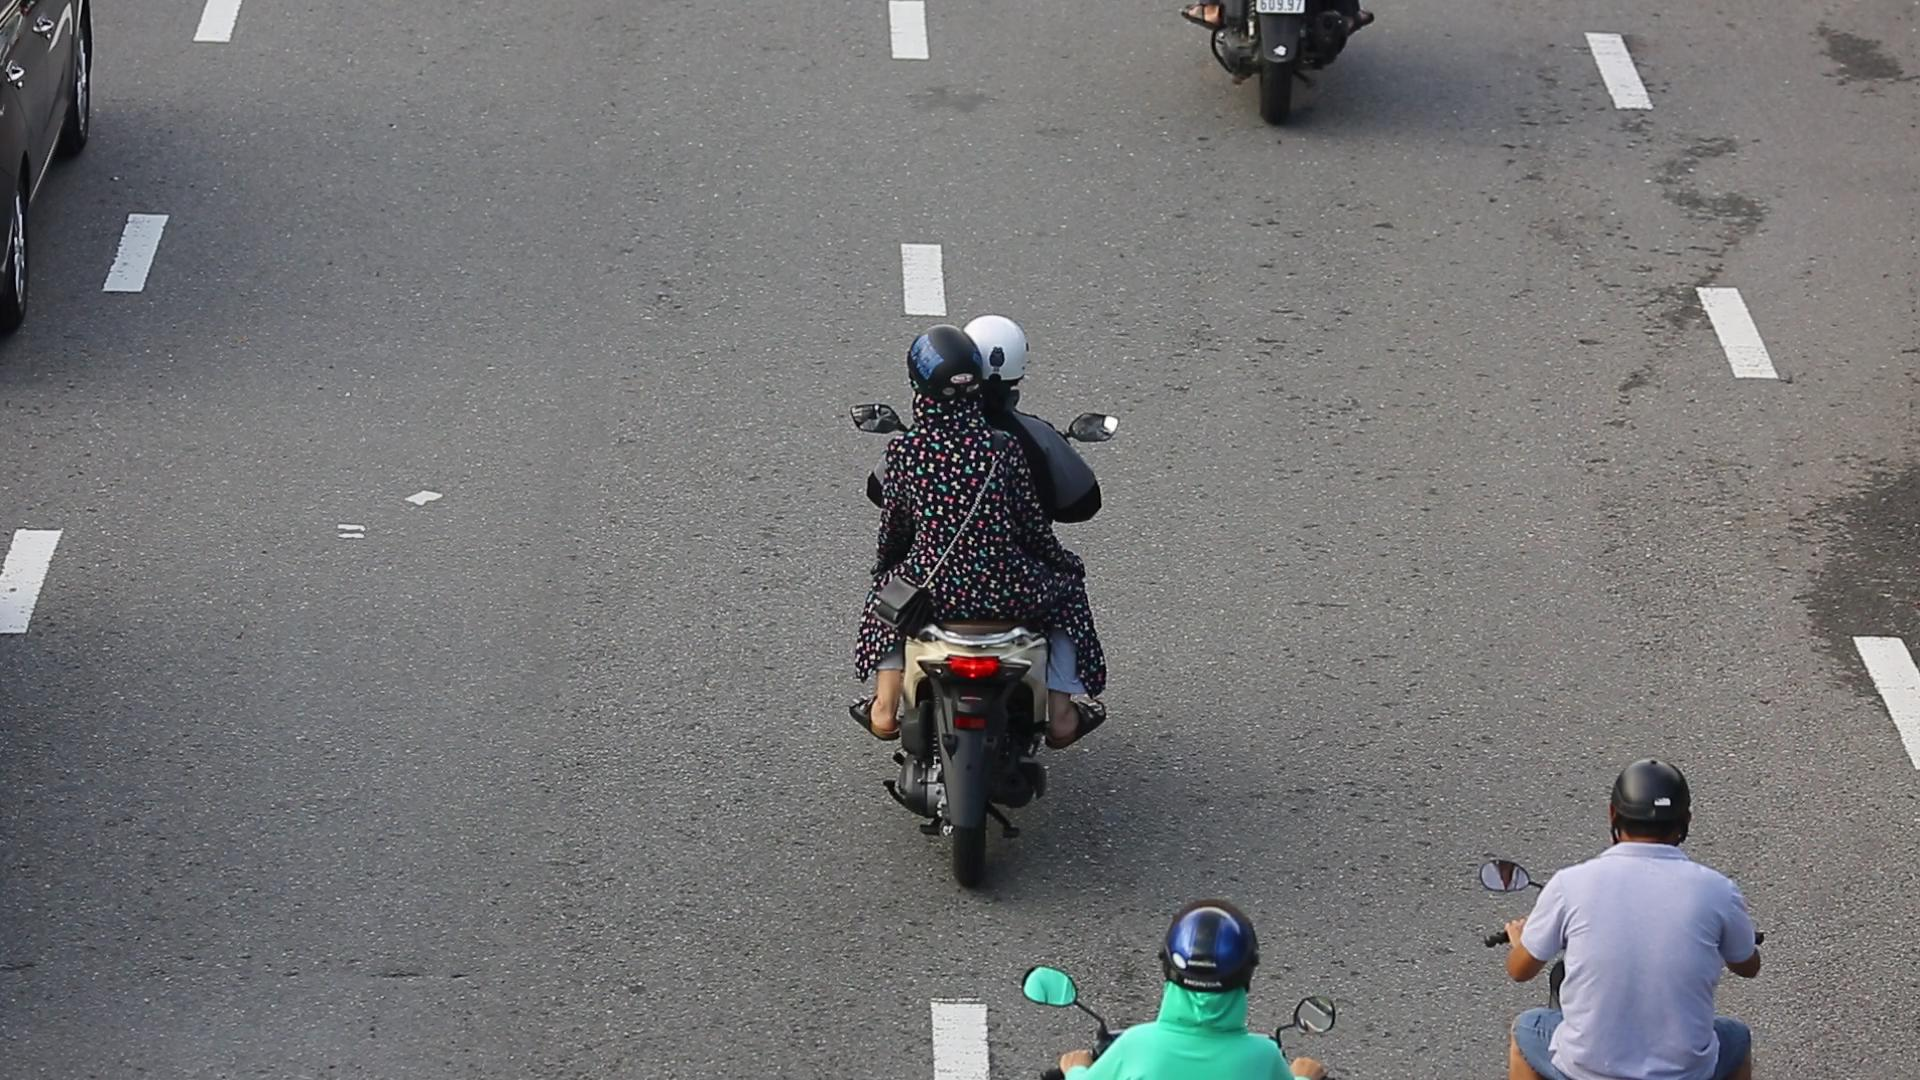motobike: (844, 309, 1117, 901)
